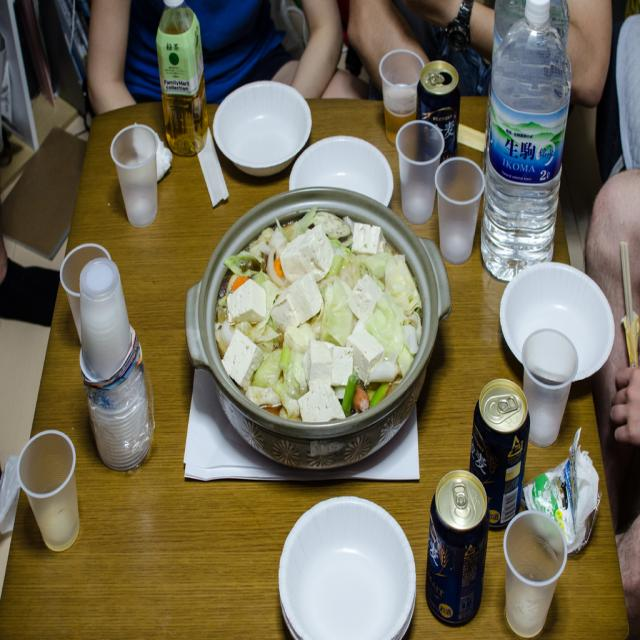non-organic waste: (263, 489, 427, 640), (496, 242, 618, 384), (211, 73, 316, 178)
